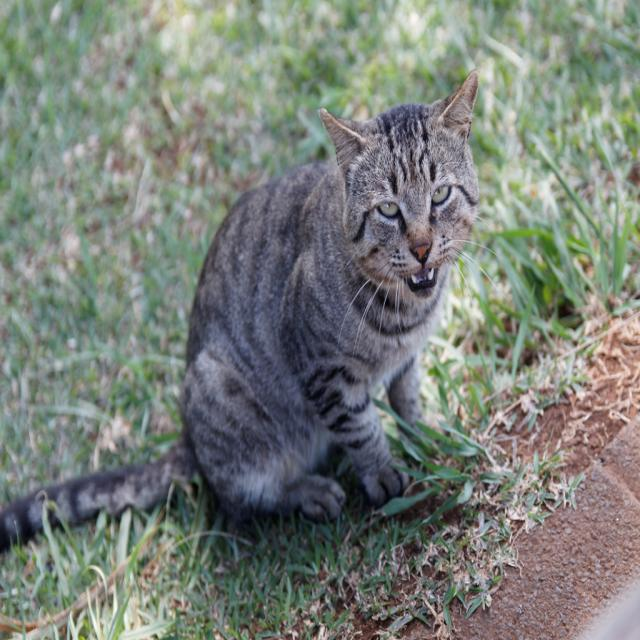Cat: (0, 68, 508, 556)
